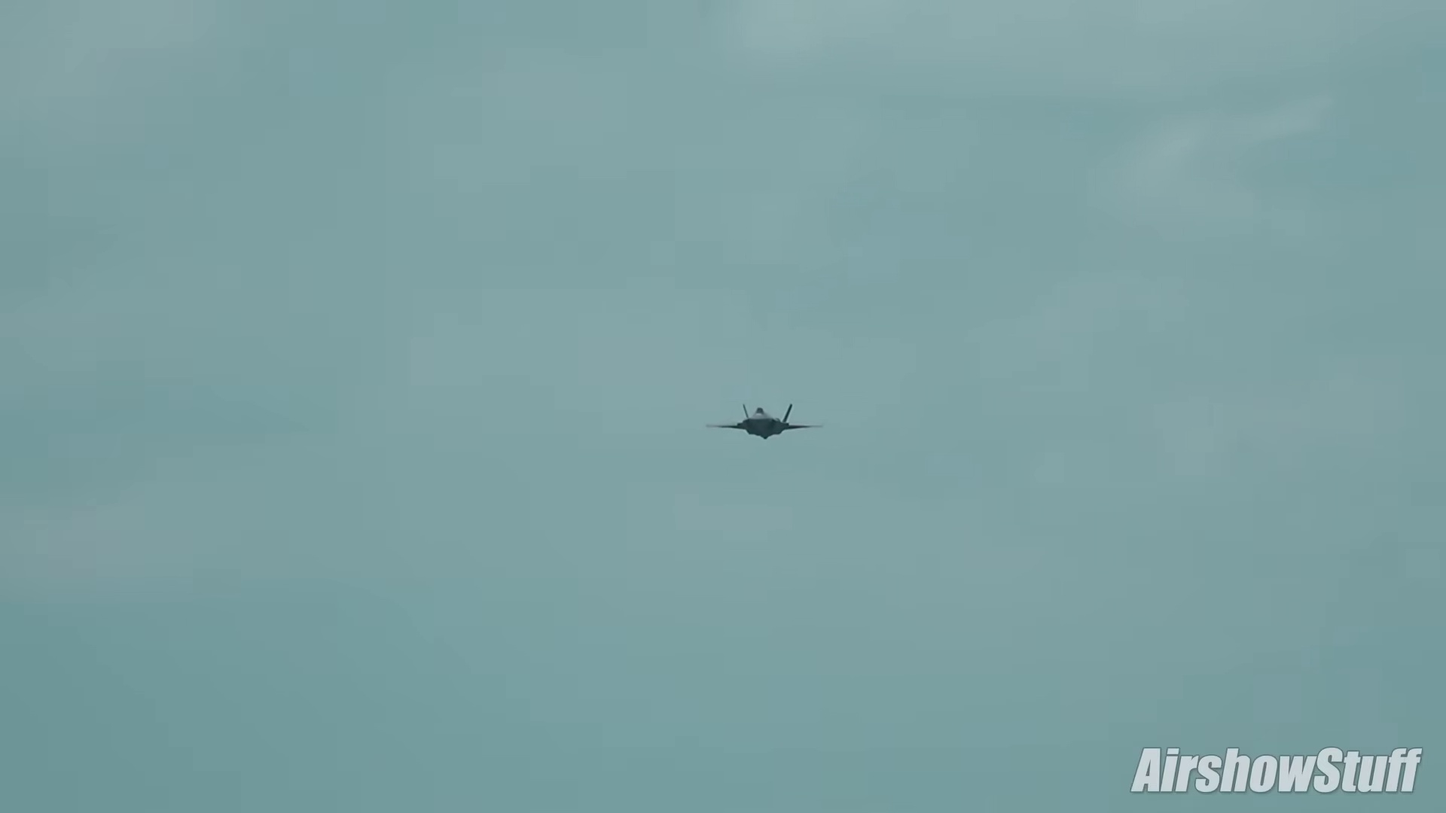F35: (703, 402, 826, 441)
